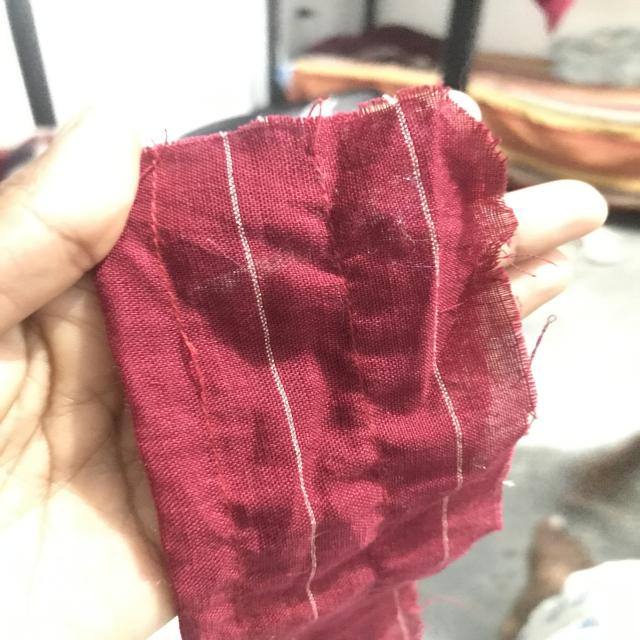skip: (161, 326, 225, 412)
